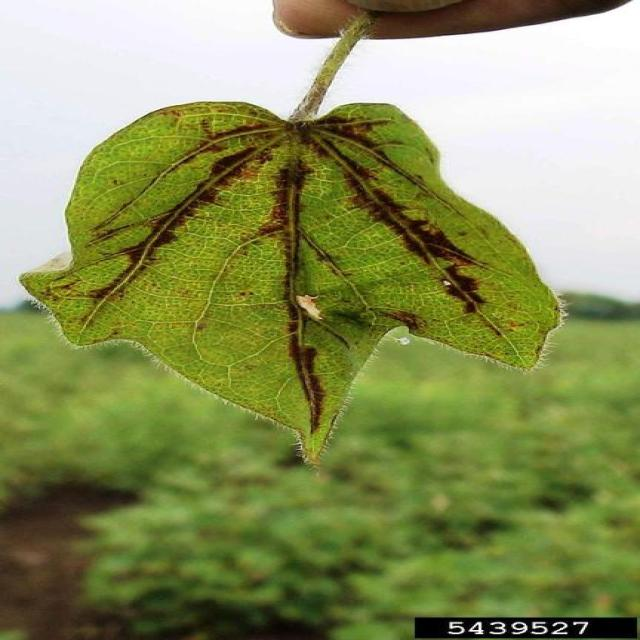Bacterial Blight: (160, 115, 430, 336)
